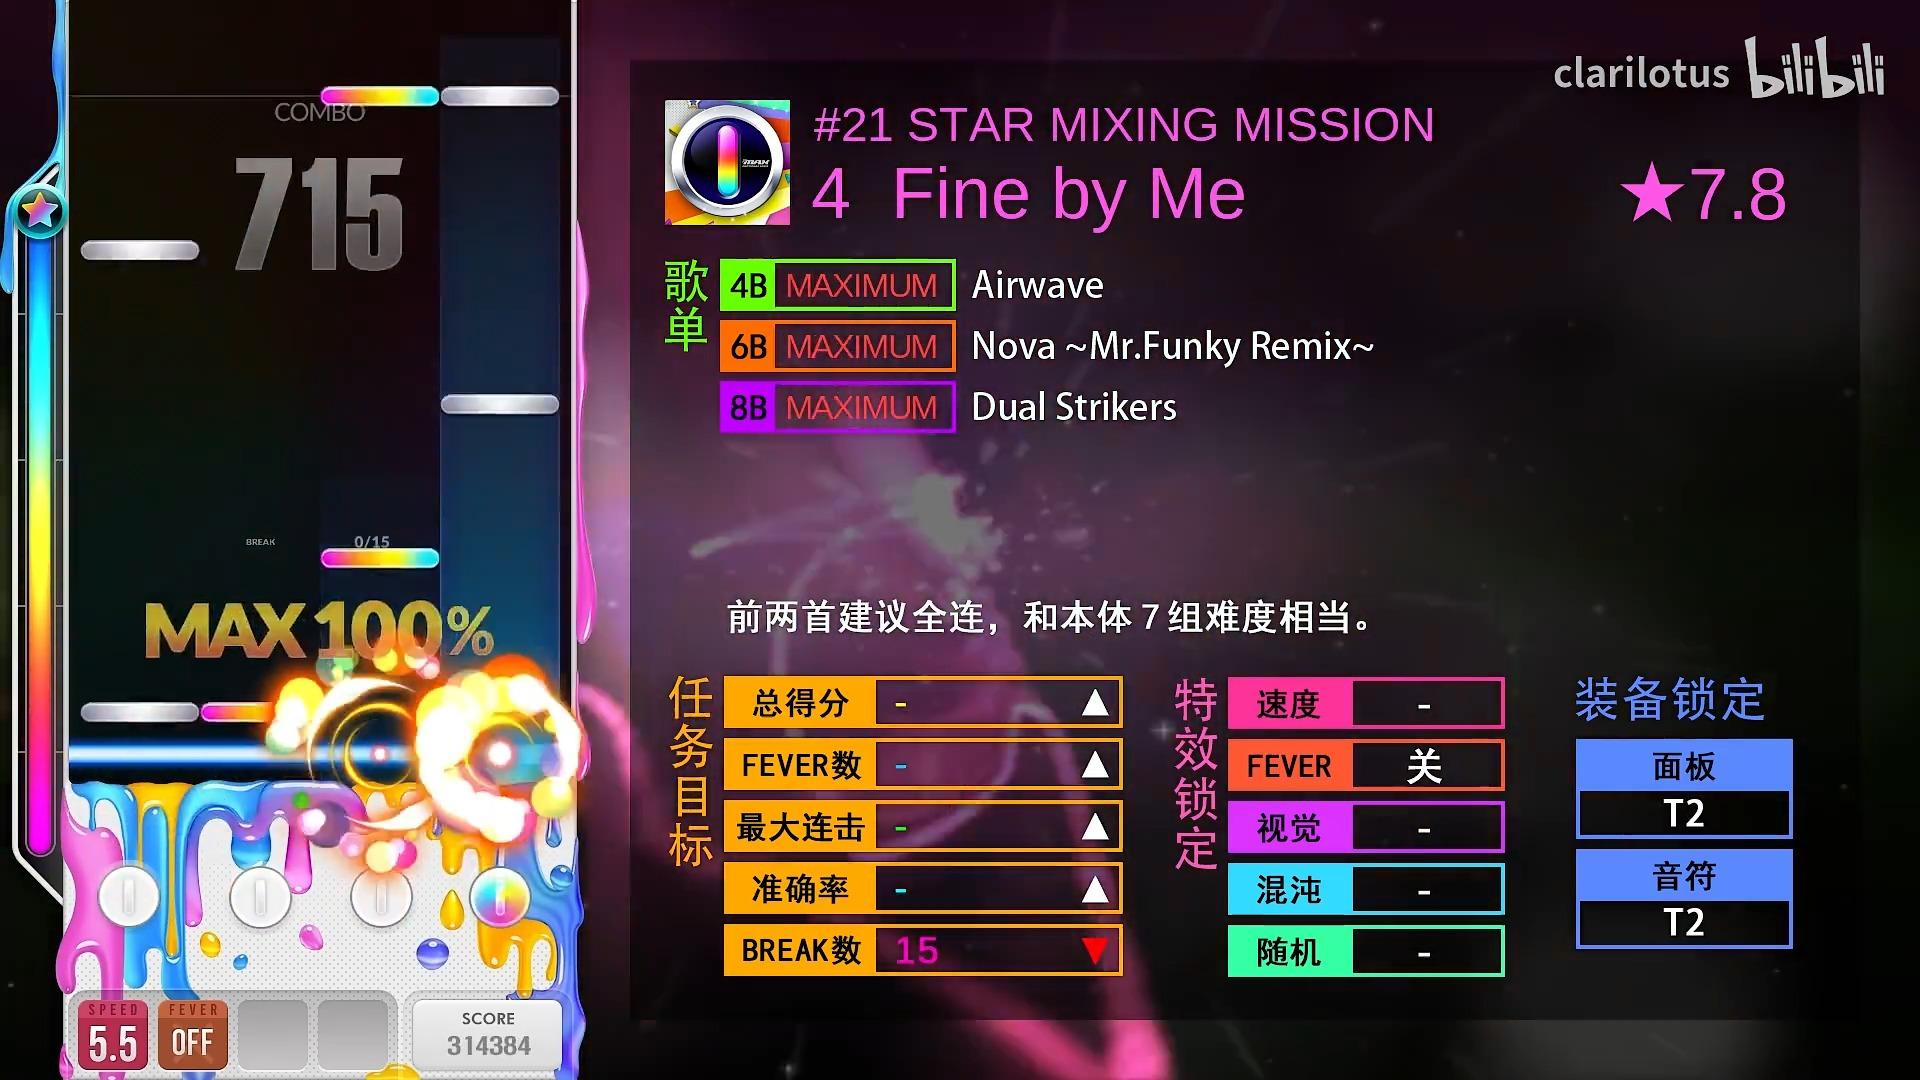note: (440, 84, 559, 108), (320, 84, 440, 107), (80, 239, 200, 261), (440, 394, 559, 415), (80, 702, 199, 723), (322, 549, 439, 570), (199, 702, 318, 721)
